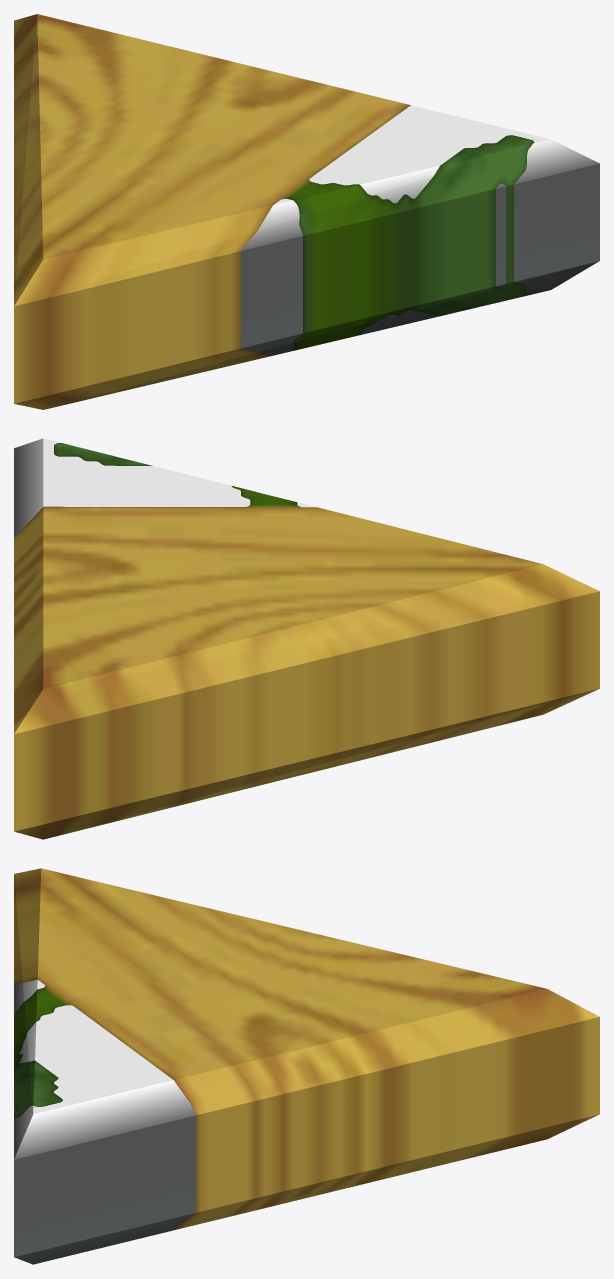
Rendered from OnimasuPlanetObstaclePartsA_bake.dae.
3 renders of one model, top to bottom at view 1: azimuth 30°, elevation 25°; view 2: azimuth 150°, elevation 25°; view 3: azimuth 270°, elevation 25°, orthographic.
Parts seen in each view (by area): view 1: m0, m0_VC; view 2: m0, m0_VC; view 3: m0, m0_VC.
Part boxes in pixels (x1=…): m0: x1=14, y1=14, x2=534, y2=409; m0_VC: x1=241, y1=105, x2=599, y2=355; m0: x1=14, y1=443, x2=599, y2=839; m0_VC: x1=14, y1=438, x2=316, y2=536; m0: x1=14, y1=868, x2=599, y2=1230; m0_VC: x1=14, y1=979, x2=195, y2=1264.
Bounding box in the file's own units: 693 × 170 × 600.
2 materials, 2 textured.
